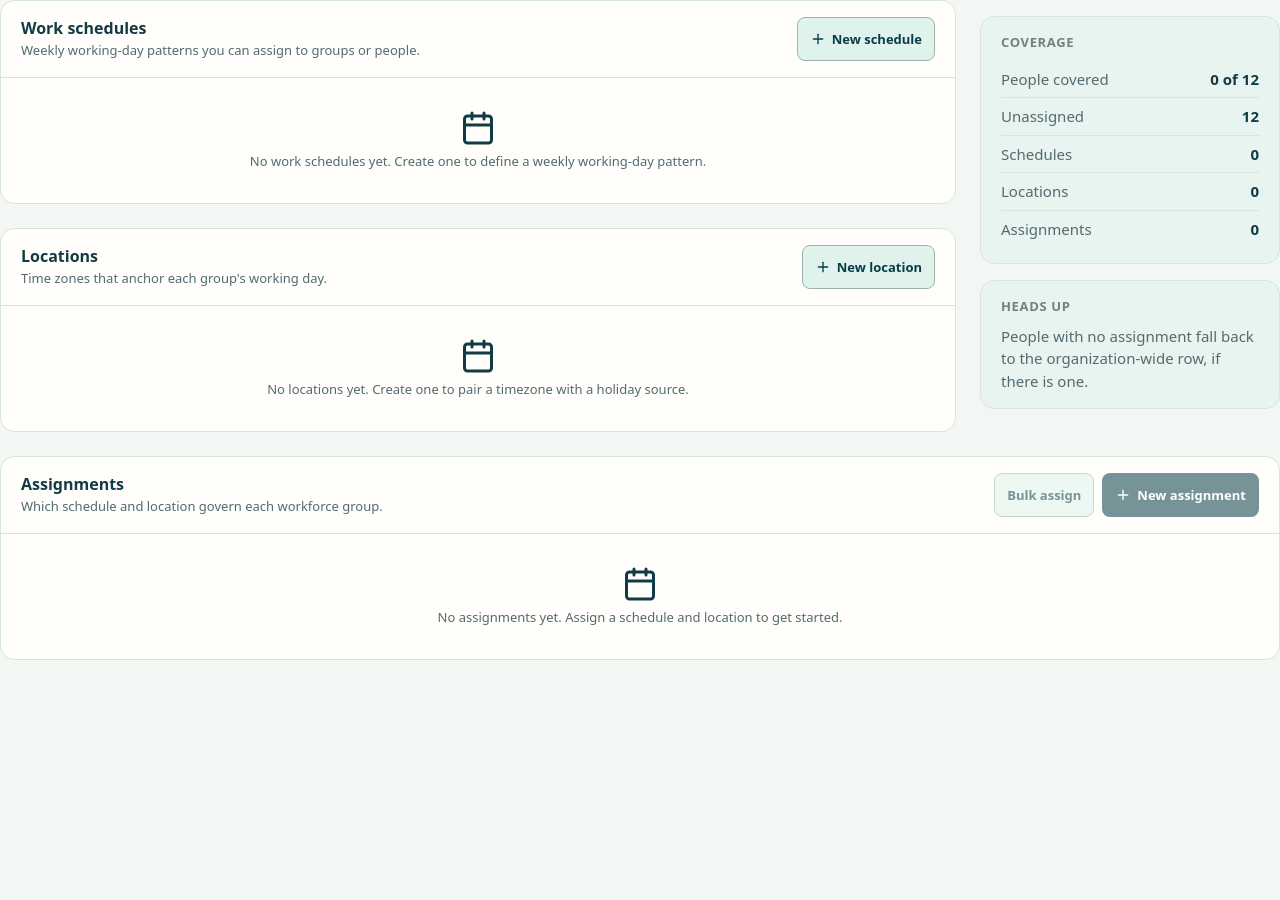
ScheduleLocationSettingsPage › leaves the holiday source alone once workforce groups exist
The image size is (1280, 900).
Click the button with test id "new-location-context".
click(868, 267)  # box [802,245,935,289]
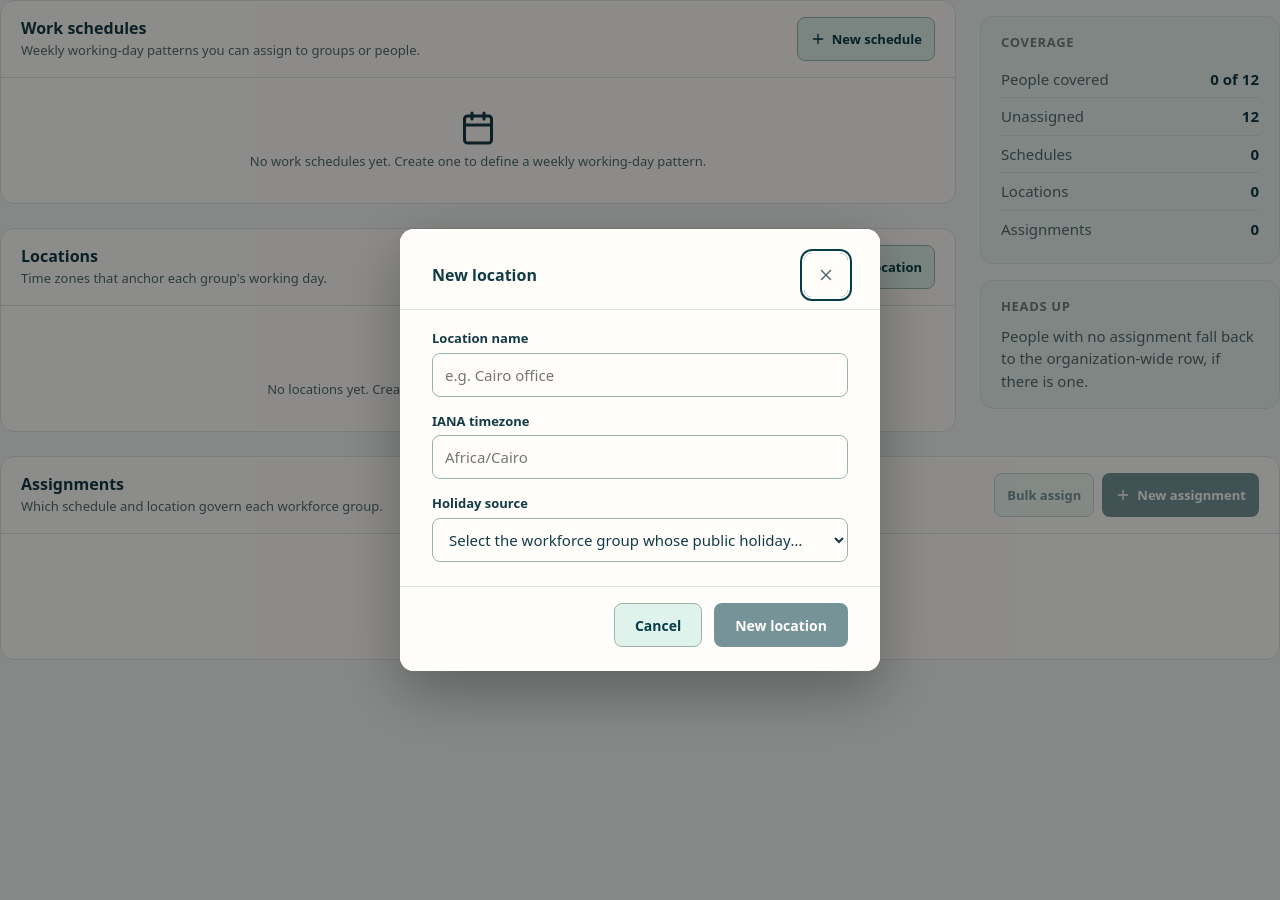
Result: the dropdown labelled "Holiday source" is enabled at [432,518,848,562]
